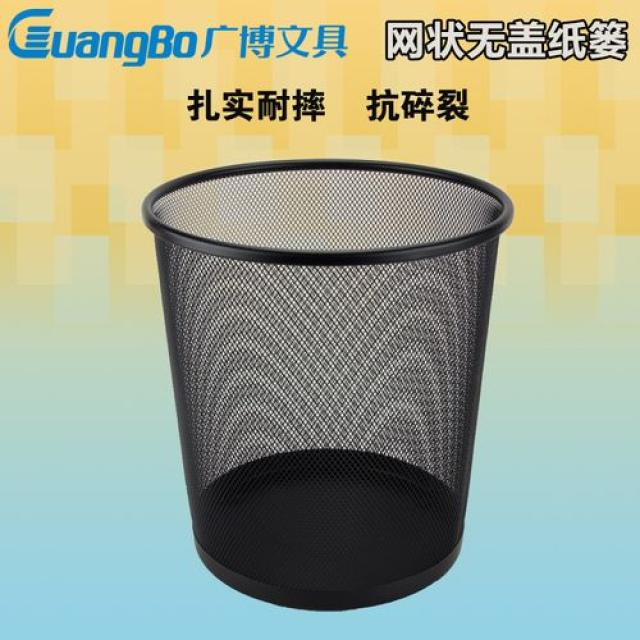dustbin: (137, 149, 520, 615)
